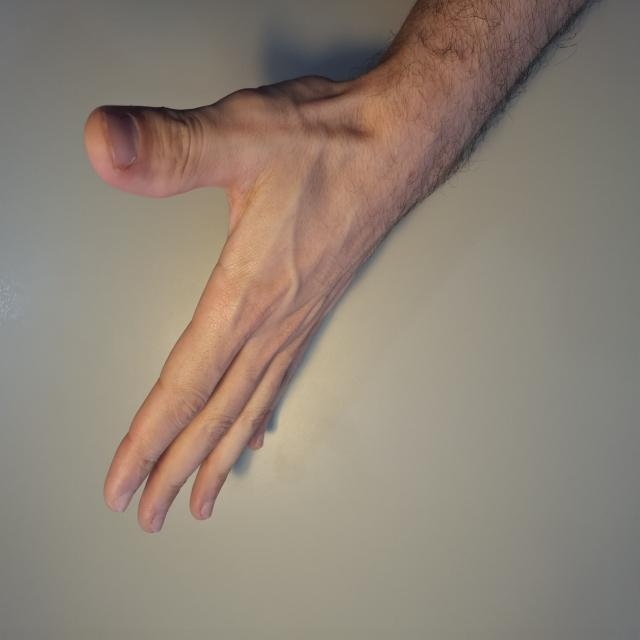glove_off: (79, 59, 411, 538)
